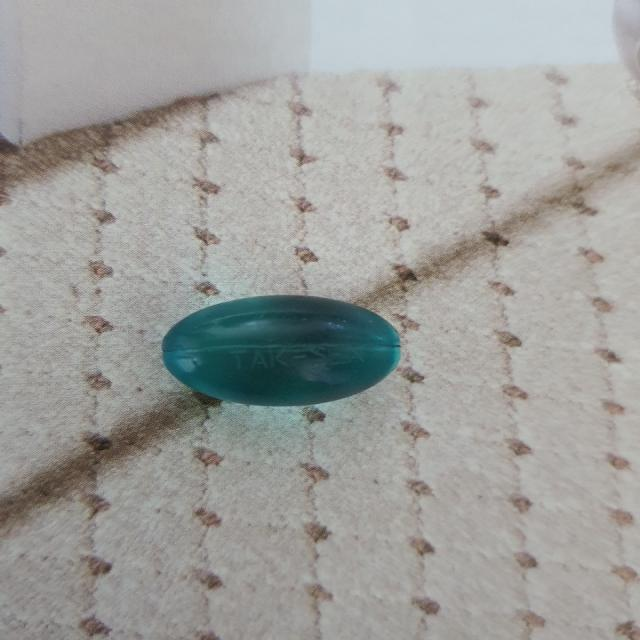pill: (132, 296, 440, 406)
